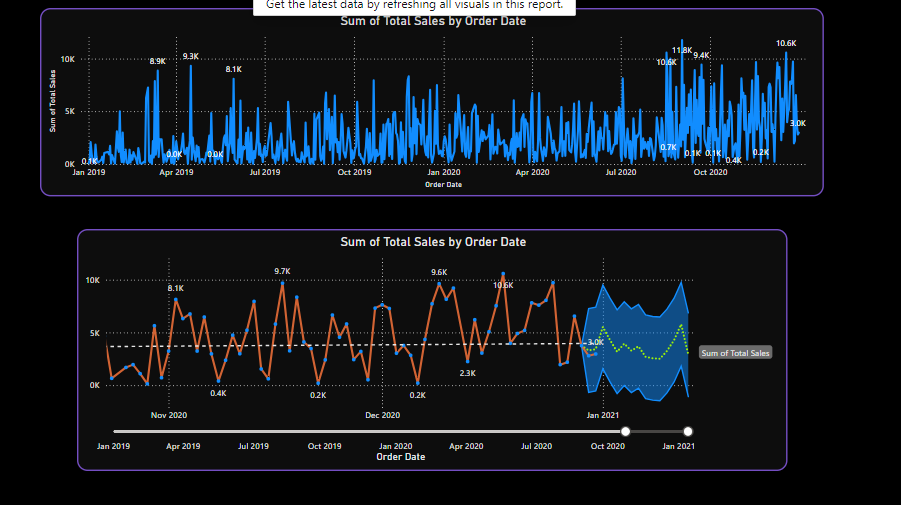

What the dashboard file says about the page in this screenshot:
{"tool":"powerbi","page":{"name":"Page 2","canvas":[1280,720],"ordinal":1},"visuals":[{"type":"lineChart","fields":{"Y":["Sum(SalesForecast.Total Sales)"],"Category":["SalesForecast.Order Date"]},"box":[111.5,327.9,1006.6,342.6],"z":0},{"type":"lineChart","fields":{"Y":["Sum(SalesForecast.Total Sales)"],"Category":["SalesForecast.Order Date"]},"box":[59,14.8,1111.5,267.2],"z":1000}]}

Visuals, with their boxes on the page's 1280x720 design canvas (x1, y1, x2, y2). These are canvas units, not pixel positions in the 901x505 screenshot, which may show the page scaled, cropped or inside an application window:
lineChart - Sum(SalesForecast.Total Sales) x SalesForecast.Order Date: 112 328 1118 670
lineChart - Sum(SalesForecast.Total Sales) x SalesForecast.Order Date: 59 15 1170 282
